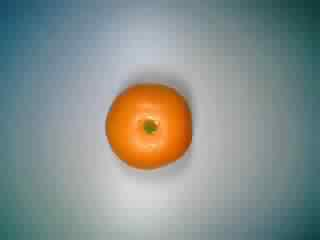orange: (103, 74, 197, 173)
